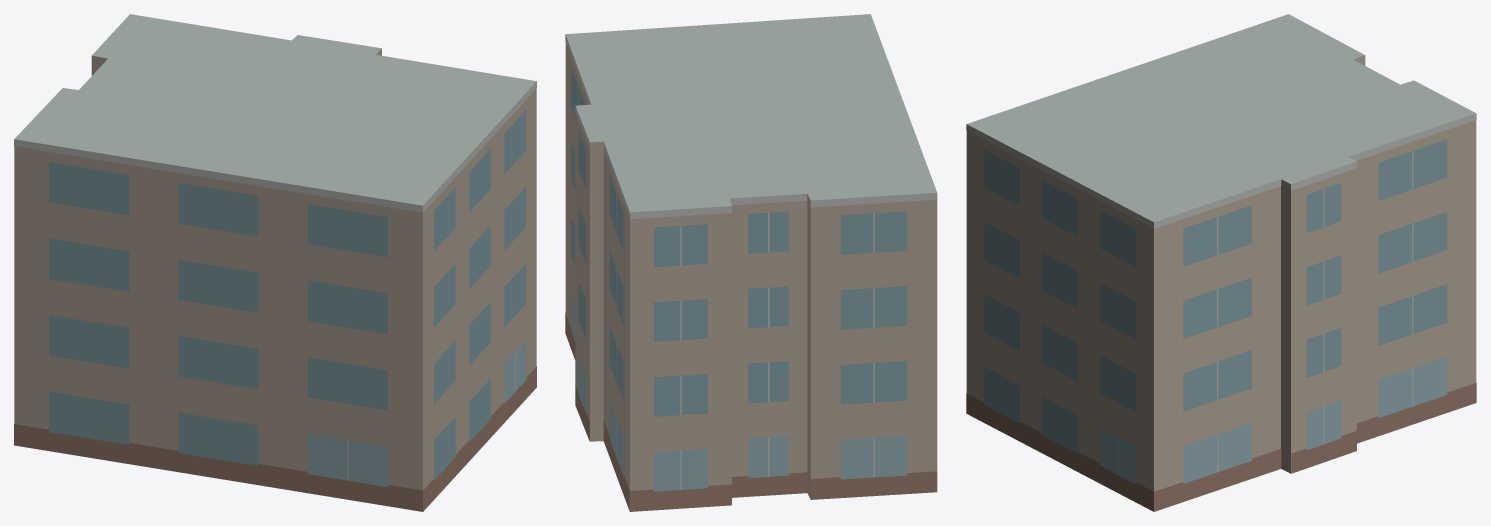
File: survey-upis-32769211.glb
3 renders of one model, left to right at view 1: azimuth 30°, elevation 25°; view 2: azimuth 150°, elevation 25°; view 3: azimuth 270°, elevation 25°, orthographic. The views are drawn at different scales.
Visible parts, largest first — view 1: survey-upis-32769211.tmp; view 2: survey-upis-32769211.tmp; view 3: survey-upis-32769211.tmp.
Boxes of the visible parts, x1,y1,x2,y2 form: survey-upis-32769211.tmp: (14,14,536,511); survey-upis-32769211.tmp: (565,14,937,511); survey-upis-32769211.tmp: (966,14,1476,511).
Size of the model in its own units: 16.36 by 10.6 by 16.93.
